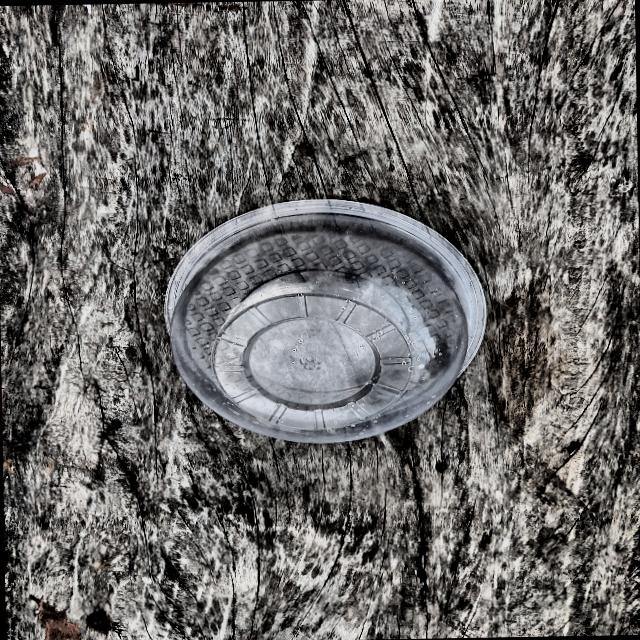plastic container: (115, 184, 510, 458)
